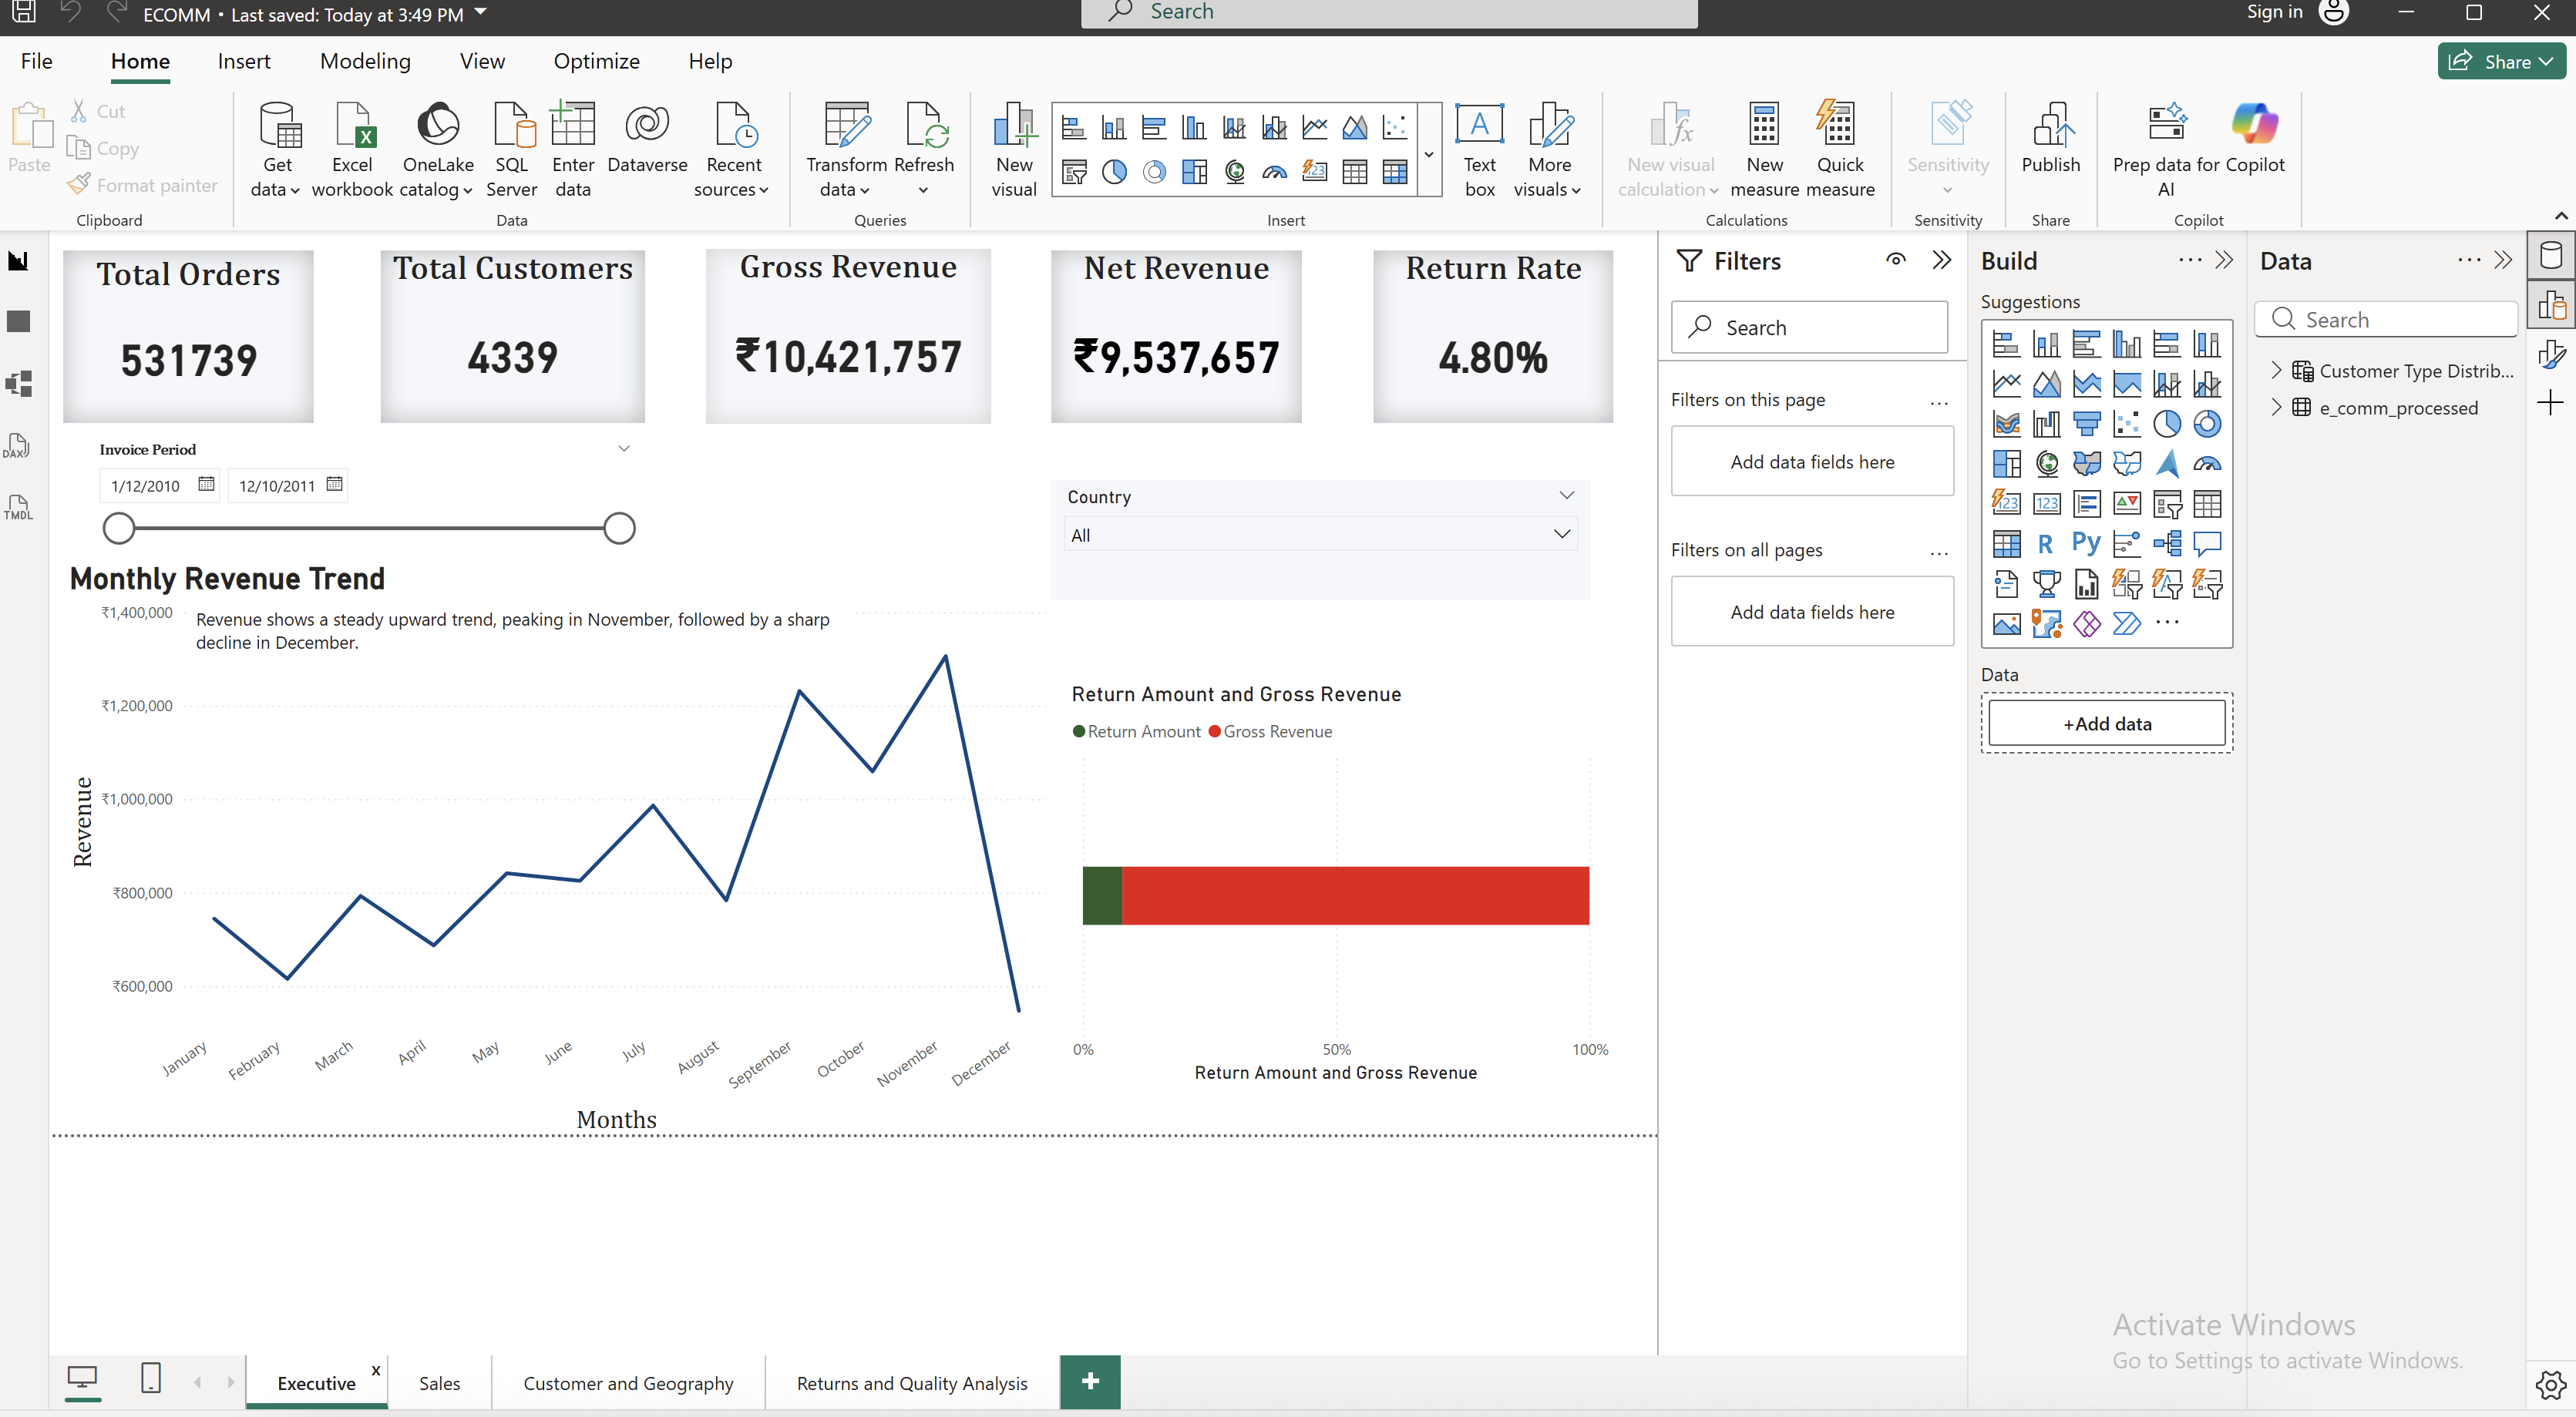

The page's visual inventory and layout, read from the dashboard file:
{"tool":"powerbi","page":{"name":"Executive ","canvas":[1280,720],"ordinal":0},"visuals":[{"type":"card","title":"Total Orders","fields":{"Values":["CountNonNull(e_comm_processed.invoice_id)"]},"box":[11.3,16.2,199.3,137.7],"z":0},{"type":"card","title":"Total Customers","fields":{"Values":["Count(e_comm_processed.customer_id)"]},"box":[264.1,16.2,210.6,137.7],"z":1000},{"type":"card","title":"Gross Revenue","fields":{"Values":["e_comm_processed.Gross Revenue"]},"box":[523.3,14.6,226.8,139.3],"z":2000},{"type":"card","title":"Net Revenue","fields":{"Values":["e_comm_processed.Net Revenue"]},"box":[797.2,16.2,199.3,137.7],"z":3000},{"type":"card","title":"Return Rate","fields":{"Values":["e_comm_processed.Return Rate"]},"box":[1054.8,16.2,191.2,137.7],"z":4000},{"type":"hundredPercentStackedBarChart","fields":{"Y":["e_comm_processed.Return Amount","e_comm_processed.Gross Revenue"]},"box":[808.5,359.7,437.5,324.1],"z":5000},{"type":"lineChart","title":"Monthly Revenue Trend","fields":{"Category":["e_comm_processed.invoice_dt.Variation.Date Hierarchy.Month"],"Y":["Sum(e_comm_processed.revenue)"]},"box":[11,262.6,789.1,461.4],"z":6000},{"type":"slicer","fields":{"Values":["e_comm_processed.country"]},"box":[797.2,199.3,429.4,95.6],"z":7000},{"type":"slicer","fields":{"Values":["e_comm_processed.invoice_dt"]},"box":[27,163.2,447.9,99.4],"z":8000},{"type":"textbox","box":[111.7,294.5,528.9,65],"z":8001}]}

Visuals, with their boxes on the page's 1280x720 design canvas (x1, y1, x2, y2). These are canvas units, not pixel positions in the 2576x1417 screenshot, which may show the page scaled, cropped or inside an application window:
"Total Orders" card: 11, 16, 211, 154
"Total Customers" card: 264, 16, 475, 154
"Gross Revenue" card: 523, 15, 750, 154
"Net Revenue" card: 797, 16, 996, 154
"Return Rate" card: 1055, 16, 1246, 154
hundredPercentStackedBarChart - e_comm_processed.Return Amount x e_comm_processed.Gross Revenue: 808, 360, 1246, 684
"Monthly Revenue Trend" lineChart: 11, 263, 800, 724
slicer - e_comm_processed.country: 797, 199, 1227, 295
slicer - e_comm_processed.invoice_dt: 27, 163, 475, 263
textbox: 112, 294, 641, 360
